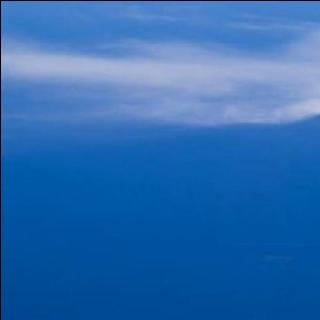Cirrostratus: (0, 0, 320, 153)
